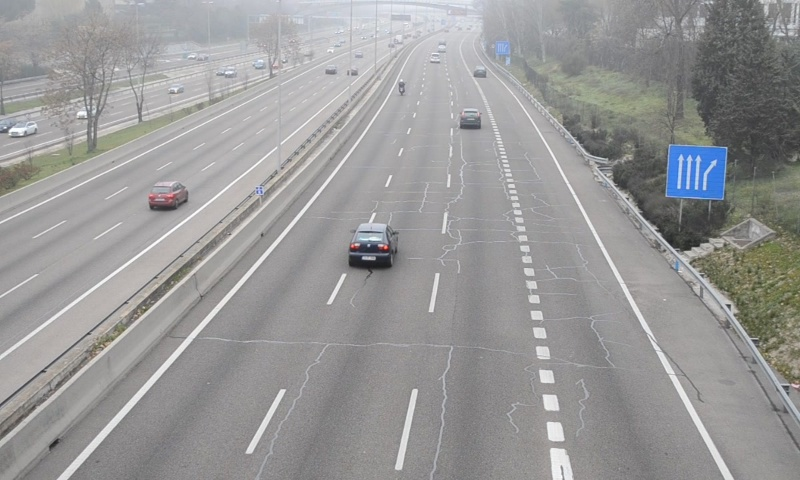car: (347, 222, 398, 270), (458, 106, 482, 129), (473, 66, 486, 78)
motorcycle: (397, 78, 404, 98)
